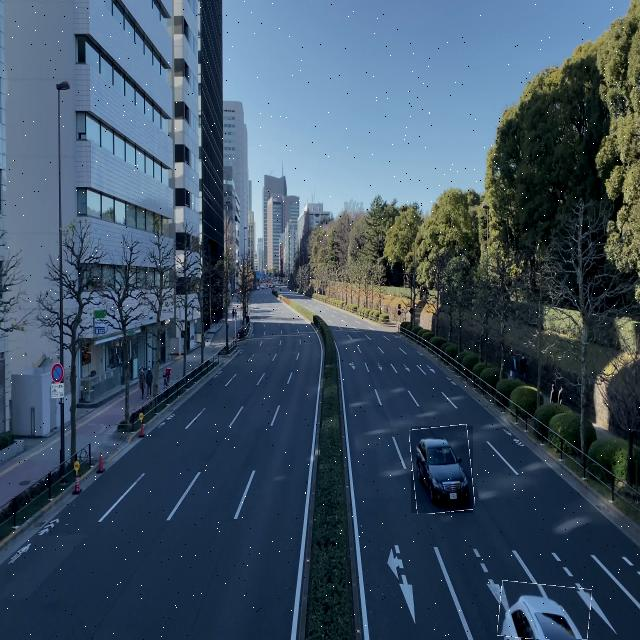Car: (411, 426, 473, 513), (498, 582, 591, 640)
